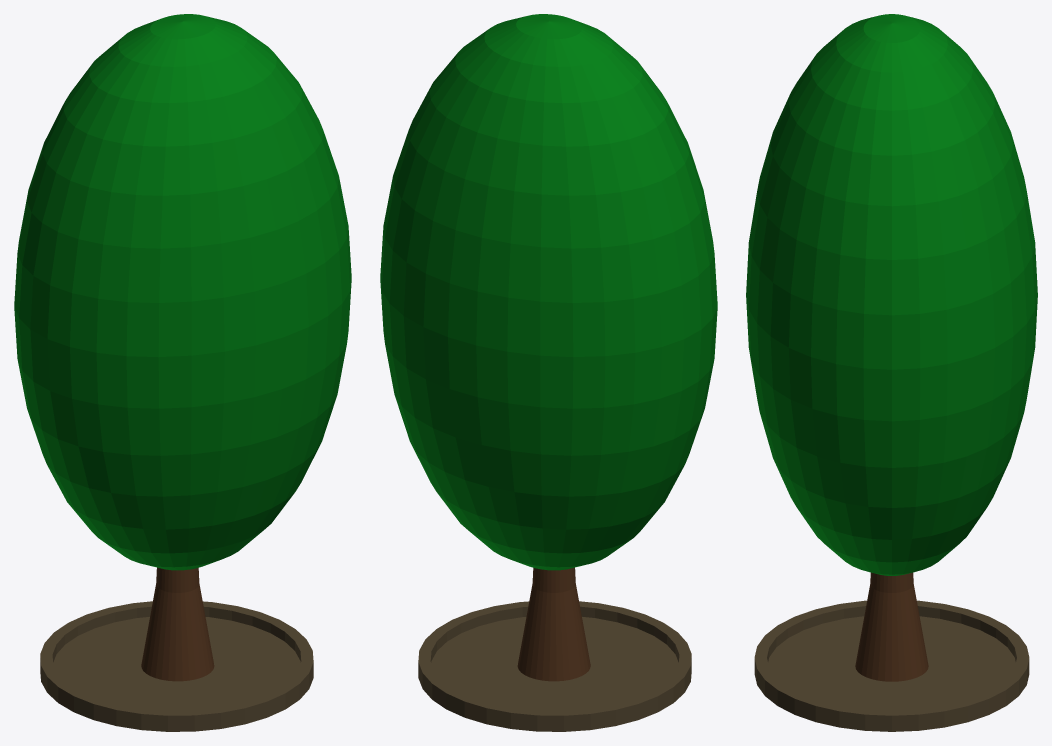
Rendered from arbol 5.fbx.
3 renders of one model, left to right at view 1: azimuth 30°, elevation 25°; view 2: azimuth 150°, elevation 25°; view 3: azimuth 270°, elevation 25°, orthographic.
Visible parts, largest first — view 1: Sphere.016; view 2: Sphere.016; view 3: Sphere.016.
Boxes of the visible parts, bbox=[...] form: Sphere.016: bbox=[14, 14, 351, 731]; Sphere.016: bbox=[380, 14, 717, 731]; Sphere.016: bbox=[746, 14, 1037, 731].
Bounding box in the file's own units: 257 × 524 × 212.
